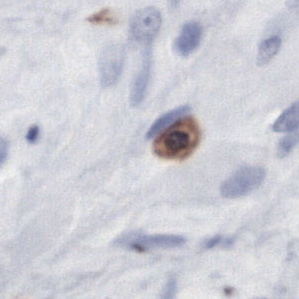Lymphocyte: (152, 119, 199, 156)
